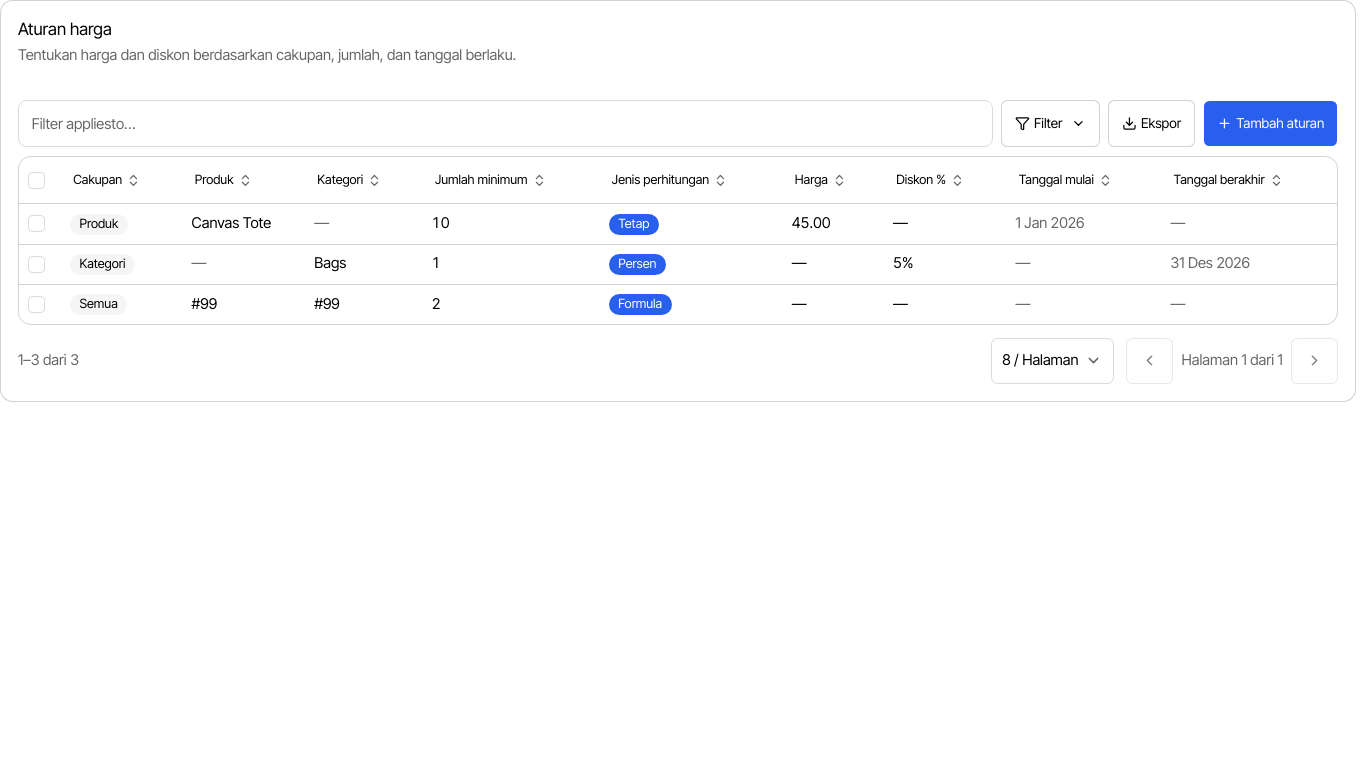
Scenario: PriceBookDetail branches › cancels the create dialog
Expected: the text "Canvas Tote" is shown, x1=192 y1=214 x2=271 y2=232
What coordinates should you click on to do the following:
click the button "Tambah aturan"
I would click on:
 (1271, 124)
Its box is x1=1203 y1=100 x2=1338 y2=147.
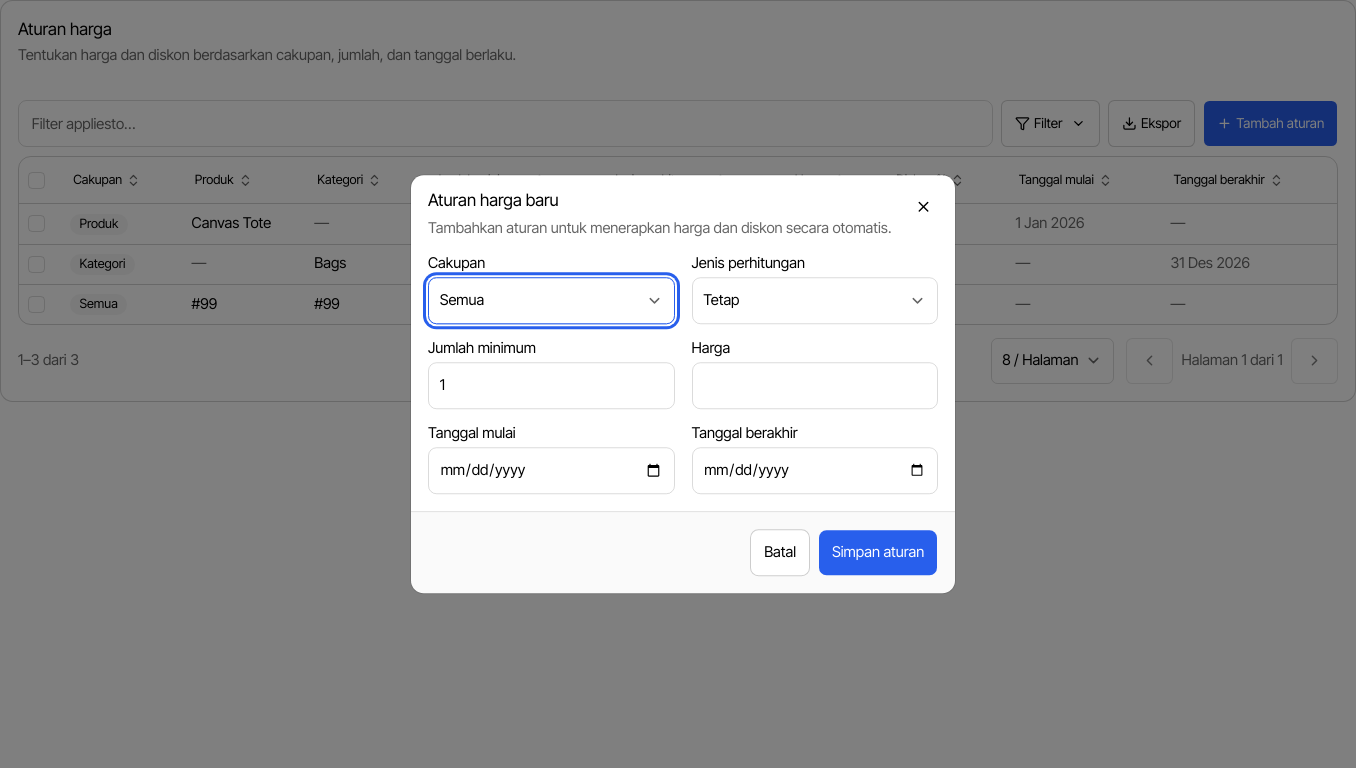
Expected: the heading "Aturan harga baru" is shown, x1=428 y1=190 x2=559 y2=210
What coordinates should you click on to do the following:
click the button "Batal"
I would click on:
 (780, 552)
Its box is x1=750 y1=529 x2=810 y2=576.
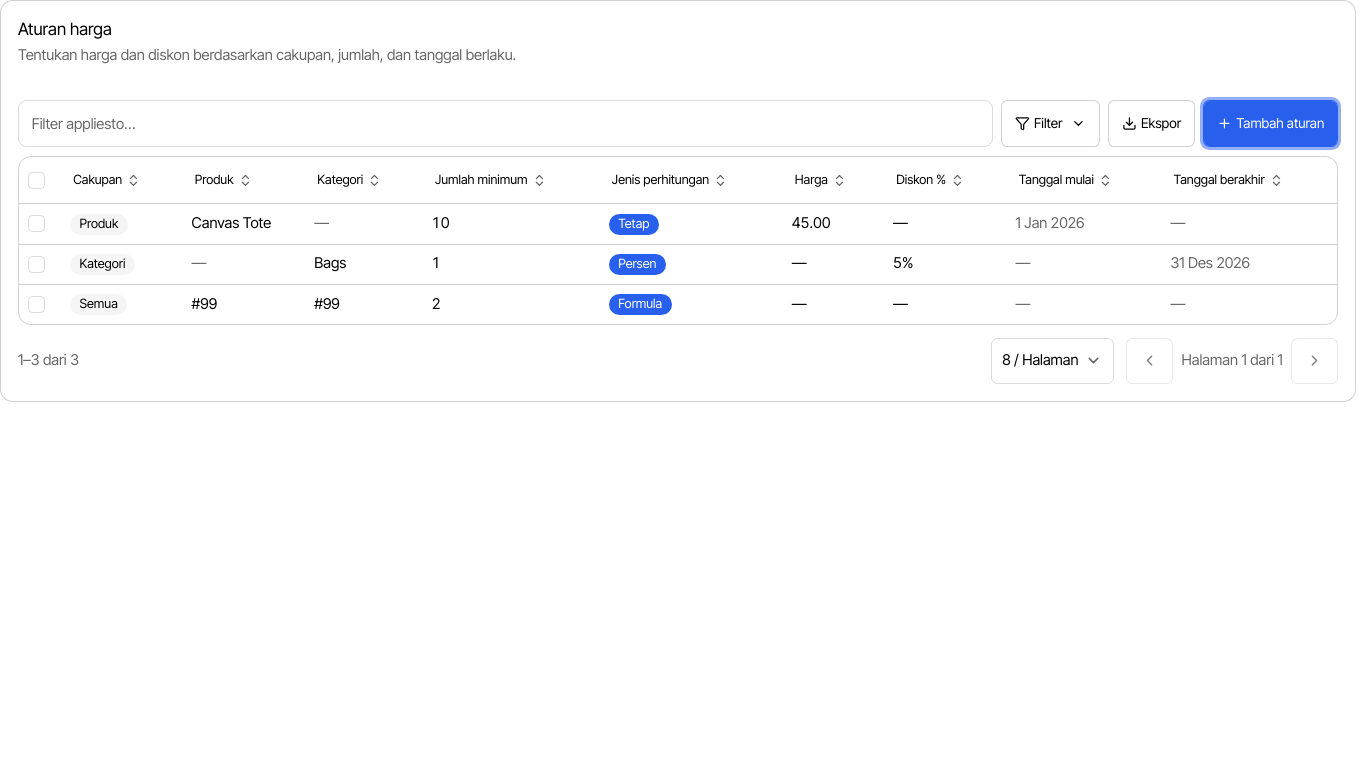
Expected: the heading "Aturan harga baru" is gone
